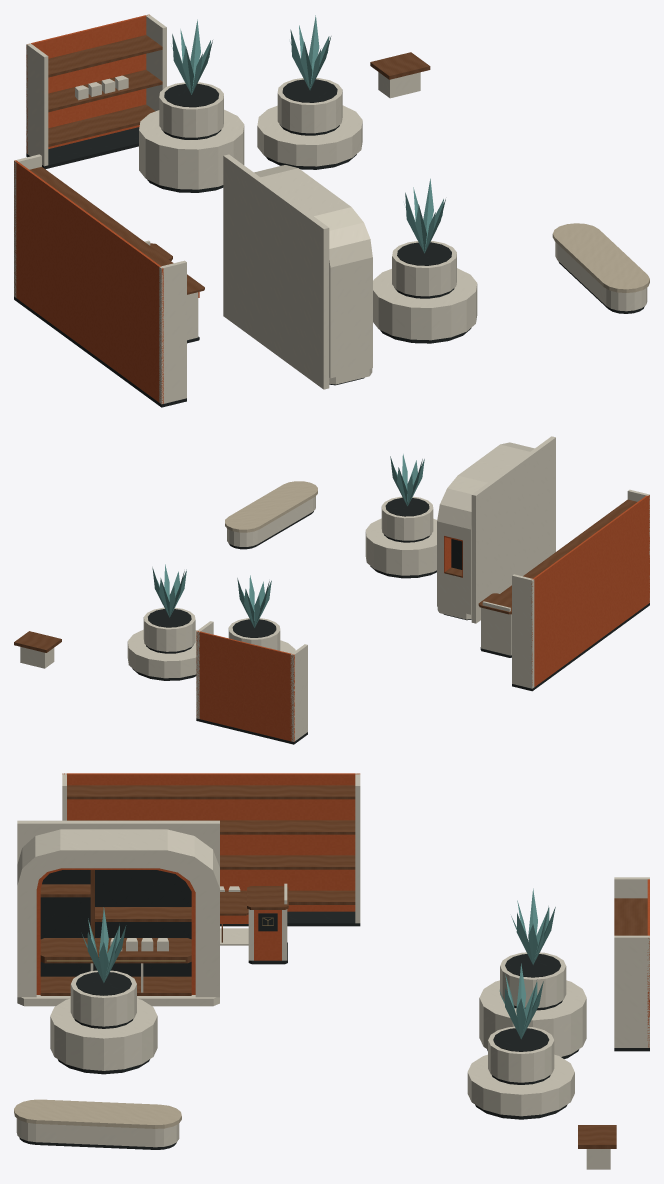
The model's file is SHOP_D09_S72_A314__care_clearance_r002.glb.
3 views of the same model, one above another, from view 1: azimuth 30°, elevation 25°; view 2: azimuth 150°, elevation 25°; view 3: azimuth 270°, elevation 25° (orthographic). The views are drawn at different scales.
Parts seen in each view (by area): view 1: SHOP_D09_S72_A314__fitout__ivory_enamel, SHOP_D09_S72_A314__fitout__retail_terracotta_enamel, SHOP_D09_S72_A314__fitout__warm_walnut, SHOP_D09_S72_A314__fitout__dark_rubber, SHOP_D09_S72_A314__fitout__quiet_teal, SHOP_D09_S72_A314__fitout__oatmeal_weave; view 2: SHOP_D09_S72_A314__fitout__ivory_enamel, SHOP_D09_S72_A314__fitout__retail_terracotta_enamel, SHOP_D09_S72_A314__fitout__dark_rubber, SHOP_D09_S72_A314__fitout__quiet_teal, SHOP_D09_S72_A314__fitout__warm_walnut, SHOP_D09_S72_A314__fitout__oatmeal_weave; view 3: SHOP_D09_S72_A314__fitout__ivory_enamel, SHOP_D09_S72_A314__fitout__warm_walnut, SHOP_D09_S72_A314__fitout__retail_terracotta_enamel, SHOP_D09_S72_A314__fitout__dark_rubber, SHOP_D09_S72_A314__fitout__oatmeal_weave, SHOP_D09_S72_A314__fitout__quiet_teal.
Boxes of the visible parts, x1,y1,x2,y2 form: SHOP_D09_S72_A314__fitout__ivory_enamel: (14, 14, 647, 404); SHOP_D09_S72_A314__fitout__retail_terracotta_enamel: (14, 14, 199, 404); SHOP_D09_S72_A314__fitout__warm_walnut: (29, 35, 430, 294); SHOP_D09_S72_A314__fitout__dark_rubber: (14, 79, 644, 407); SHOP_D09_S72_A314__fitout__quiet_teal: (171, 15, 445, 253); SHOP_D09_S72_A314__fitout__oatmeal_weave: (552, 223, 649, 292); SHOP_D09_S72_A314__fitout__ivory_enamel: (20, 436, 649, 741); SHOP_D09_S72_A314__fitout__retail_terracotta_enamel: (196, 495, 649, 741); SHOP_D09_S72_A314__fitout__dark_rubber: (132, 497, 649, 744); SHOP_D09_S72_A314__fitout__quiet_teal: (152, 454, 424, 627); SHOP_D09_S72_A314__fitout__warm_walnut: (14, 499, 636, 652); SHOP_D09_S72_A314__fitout__oatmeal_weave: (225, 481, 317, 532); SHOP_D09_S72_A314__fitout__ivory_enamel: (16, 773, 649, 1169); SHOP_D09_S72_A314__fitout__warm_walnut: (40, 785, 647, 1148); SHOP_D09_S72_A314__fitout__retail_terracotta_enamel: (36, 773, 649, 1047); SHOP_D09_S72_A314__fitout__dark_rubber: (19, 870, 649, 1149); SHOP_D09_S72_A314__fitout__oatmeal_weave: (14, 1099, 181, 1128); SHOP_D09_S72_A314__fitout__quiet_teal: (82, 888, 555, 1039).
Size of the model in its own units: 10.25 by 3 by 10.67.
7 materials, 6 textured.
